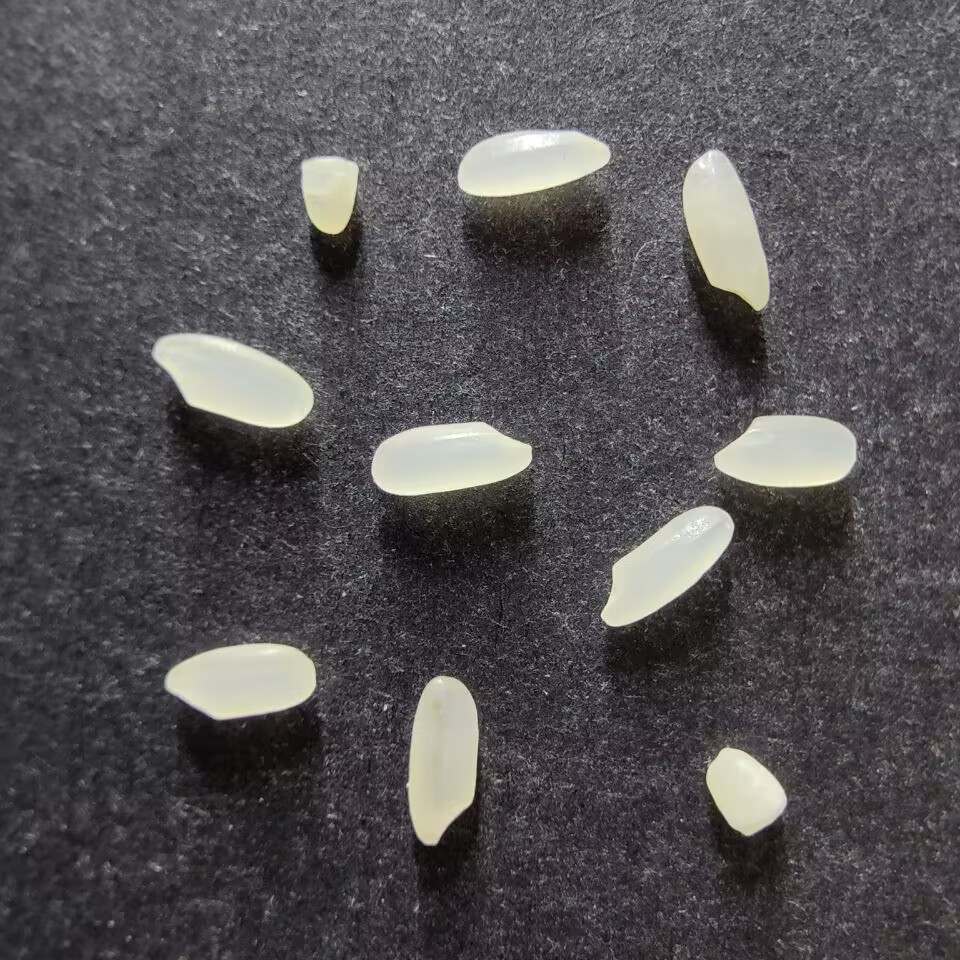broken: (705, 746, 787, 837), (300, 155, 359, 235)
rice: (600, 503, 735, 628), (151, 333, 313, 429), (680, 149, 770, 311), (370, 420, 532, 496), (407, 675, 478, 847), (163, 642, 316, 720), (456, 127, 611, 197), (712, 414, 857, 488)
